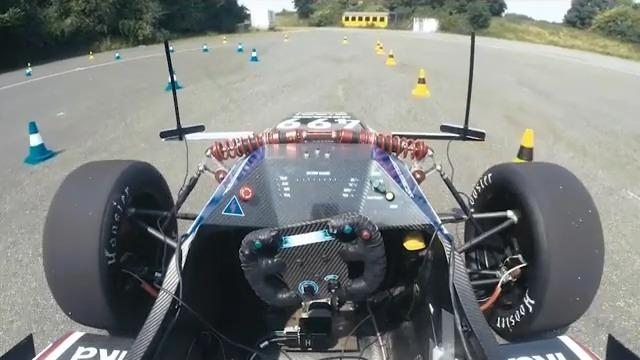blue_cone: (19, 118, 54, 163), (166, 69, 180, 90), (249, 47, 257, 62), (167, 41, 175, 56), (113, 50, 122, 61), (235, 40, 242, 53), (201, 43, 209, 54), (25, 67, 31, 77)
yellow_cone: (501, 123, 549, 208), (409, 70, 432, 97), (385, 50, 398, 65), (375, 38, 382, 51), (377, 44, 386, 54), (342, 34, 349, 45), (221, 35, 228, 45), (283, 33, 289, 43), (89, 50, 95, 60)
